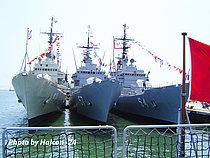MIL_Ship: (111, 20, 191, 122), (9, 15, 65, 120), (68, 22, 123, 123)
